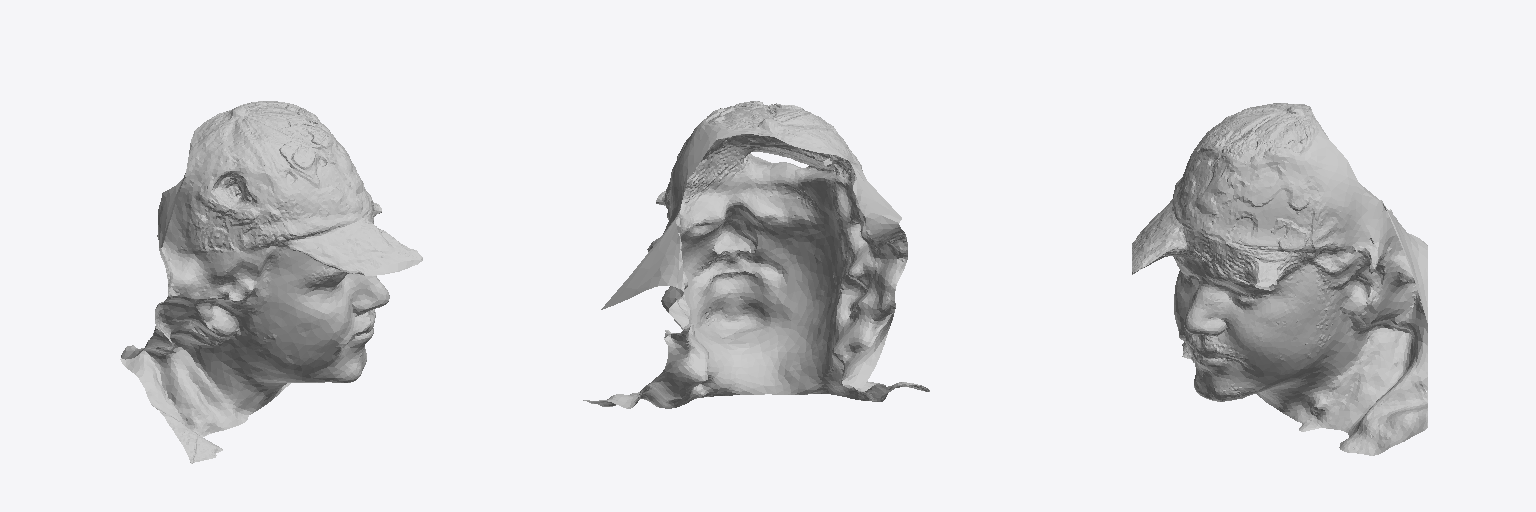
File: logan.obj
The picture shows the model from 3 angles: view 1: azimuth 30°, elevation 25°; view 2: azimuth 150°, elevation 25°; view 3: azimuth 270°, elevation 25°; orthographic projection.
Visible parts, largest first — view 1: obj1; view 2: obj1; view 3: obj1.
Part boxes in pixels (left/top/right/bottom): obj1: left=120, top=101, right=422, bottom=463; obj1: left=583, top=101, right=929, bottom=408; obj1: left=1132, top=103, right=1427, bottom=455.
Bounding box in the file's own units: 0.824 × 0.997 × 0.9264.